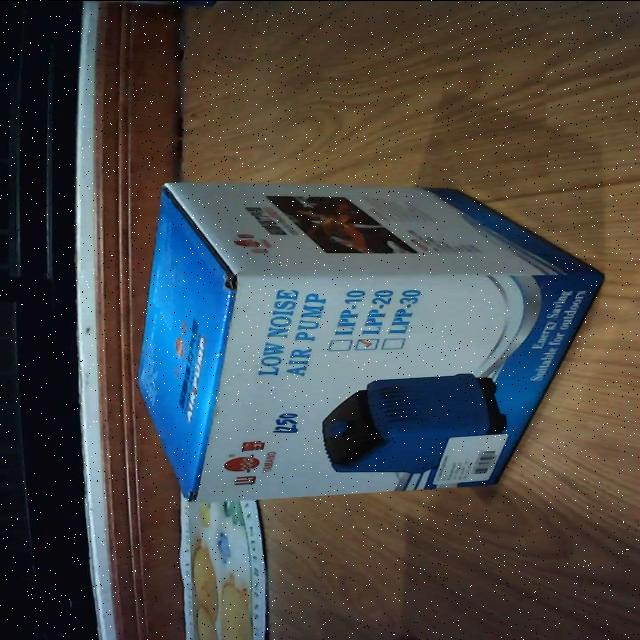YAMANO_LPP_20: (126, 176, 614, 504)
